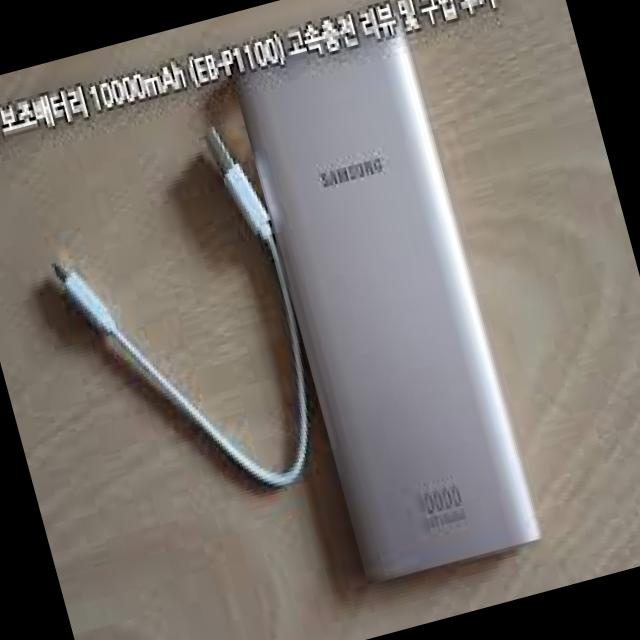power_bank: (230, 16, 538, 586)
